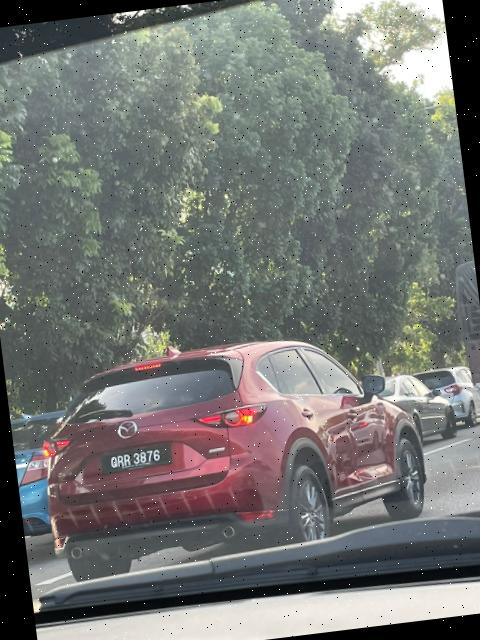License_Plate: (96, 442, 171, 474)
car: (22, 320, 448, 581)
